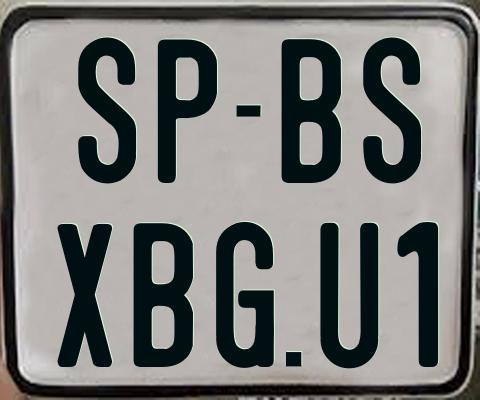1: (397, 219, 442, 368)
B: (279, 39, 345, 185), (130, 223, 191, 368)
G: (214, 220, 276, 368)
P: (158, 37, 219, 187)
S: (363, 36, 426, 189), (75, 34, 137, 182)
U: (318, 222, 381, 368)
X: (56, 221, 114, 364)
